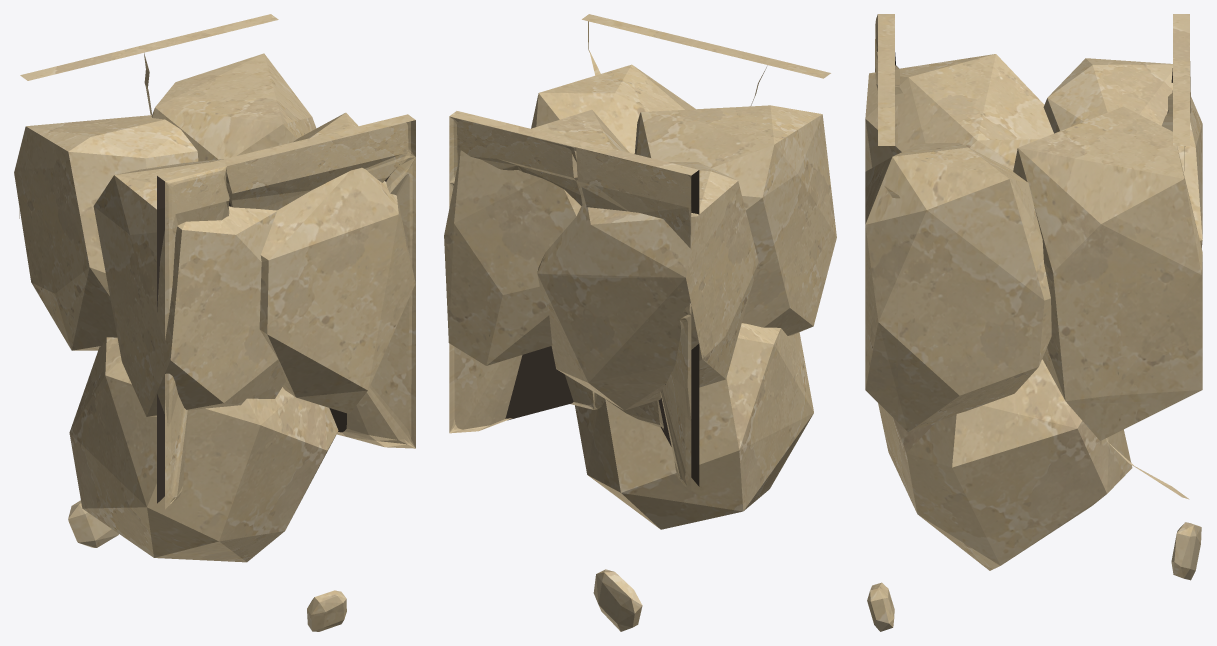
The model's file is ground_bottom_strip_08.glb.
3 renders of one model, left to right at view 1: azimuth 30°, elevation 25°; view 2: azimuth 150°, elevation 25°; view 3: azimuth 270°, elevation 25°, orthographic. The views are drawn at different scales.
Visible parts, largest first — view 1: GroundBottomStrip08_Body; view 2: GroundBottomStrip08_Body; view 3: GroundBottomStrip08_Body.
Boxes of the visible parts, x1,y1,x2,y2 form: GroundBottomStrip08_Body: (14,14,415,631); GroundBottomStrip08_Body: (444,14,836,631); GroundBottomStrip08_Body: (865,14,1202,631).
Size of the model in its own units: 1 by 1.87 by 1.08.
9 materials, 8 textured.
